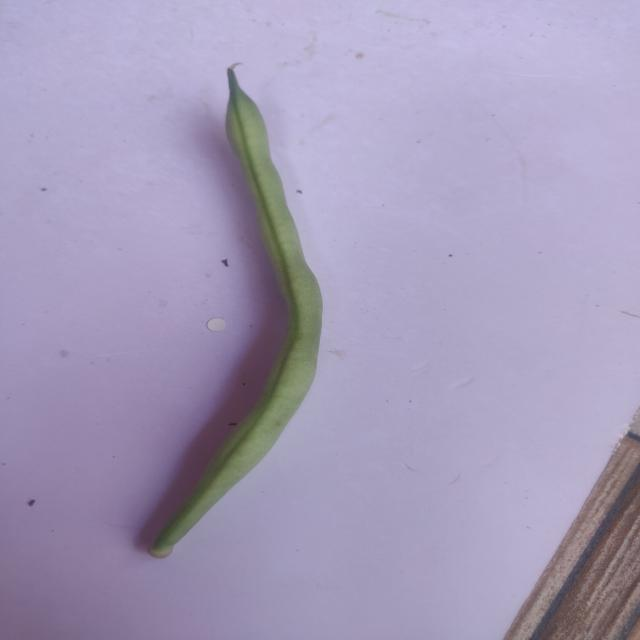Beans: (110, 61, 343, 568)
